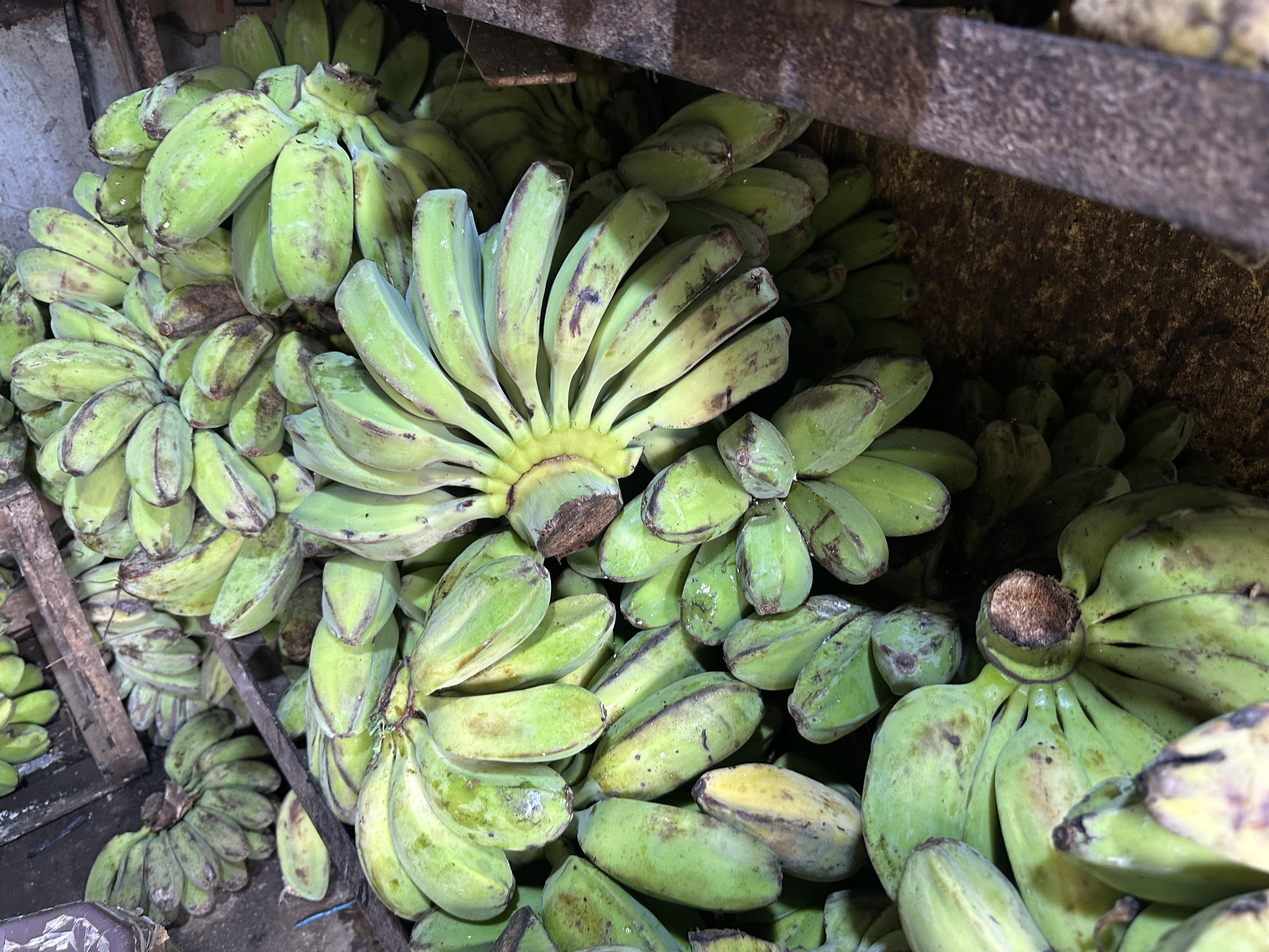underripe: (286, 162, 789, 560), (862, 484, 1269, 952), (597, 354, 976, 647), (356, 532, 615, 921), (141, 65, 496, 329), (541, 621, 781, 952), (12, 271, 275, 559), (954, 356, 1227, 577), (1052, 701, 1269, 952), (85, 708, 278, 924), (118, 454, 338, 639), (157, 228, 327, 456), (723, 595, 962, 743), (618, 93, 828, 261), (765, 165, 922, 377), (89, 66, 251, 256), (305, 553, 400, 824), (221, 0, 430, 108), (415, 51, 551, 198), (15, 172, 148, 307), (0, 618, 59, 796), (0, 387, 80, 506), (104, 613, 202, 697), (111, 661, 208, 745), (62, 539, 152, 625)
